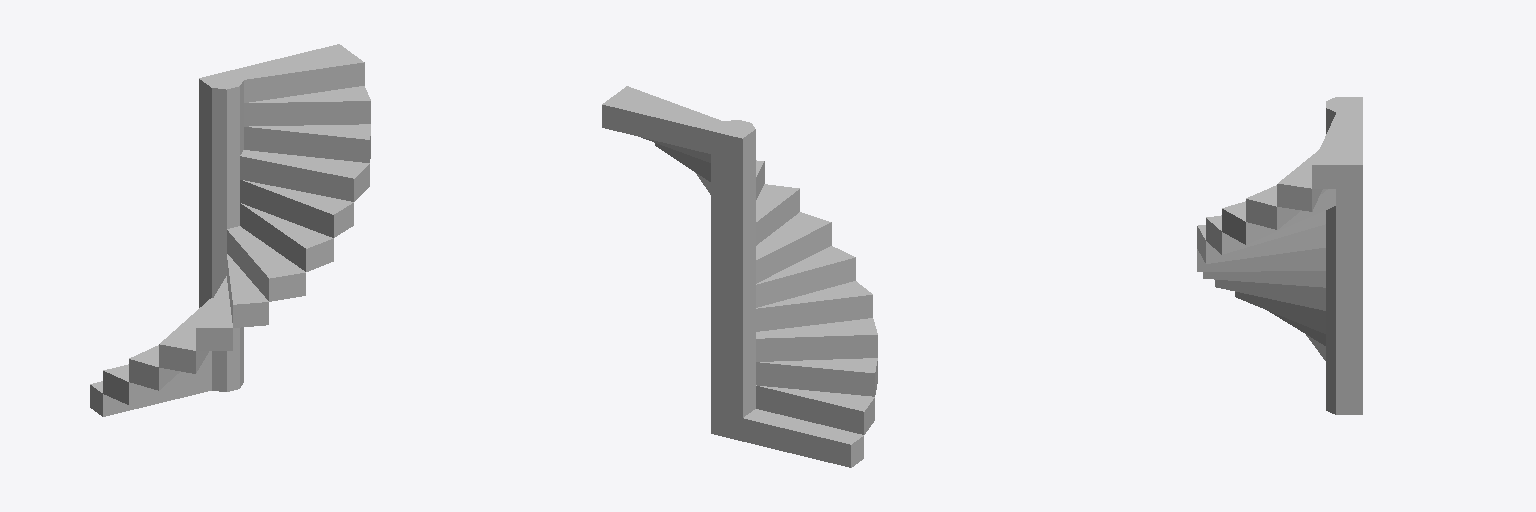
File: stairsStoneRound.obj
3 renders of one model, left to right at view 1: azimuth 30°, elevation 25°; view 2: azimuth 150°, elevation 25°; view 3: azimuth 270°, elevation 25°, orthographic.
Parts seen in each view (by area): view 1: stairsStoneRound; view 2: stairsStoneRound; view 3: stairsStoneRound.
Part boxes in pixels (x1,y1,x2,y2): stairsStoneRound: (90, 44, 370, 416); stairsStoneRound: (602, 86, 877, 467); stairsStoneRound: (1197, 97, 1362, 414).
Size of the model in its own units: 0.8618 by 1 by 0.4949.